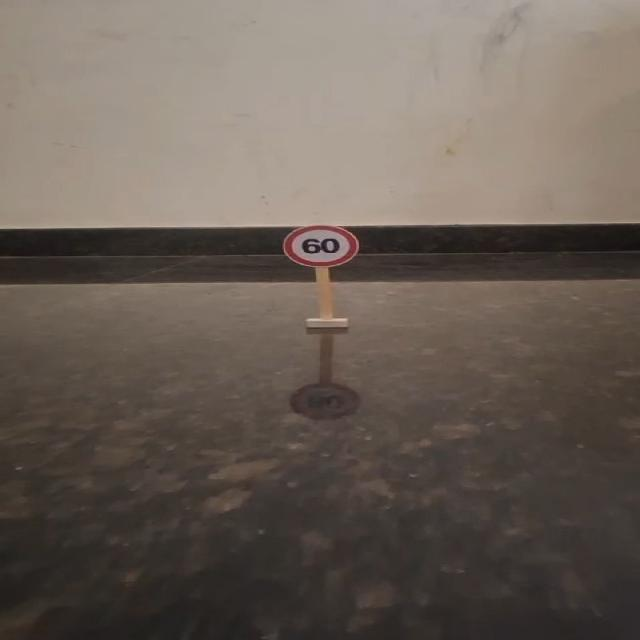Speed60: (282, 222, 364, 269)
